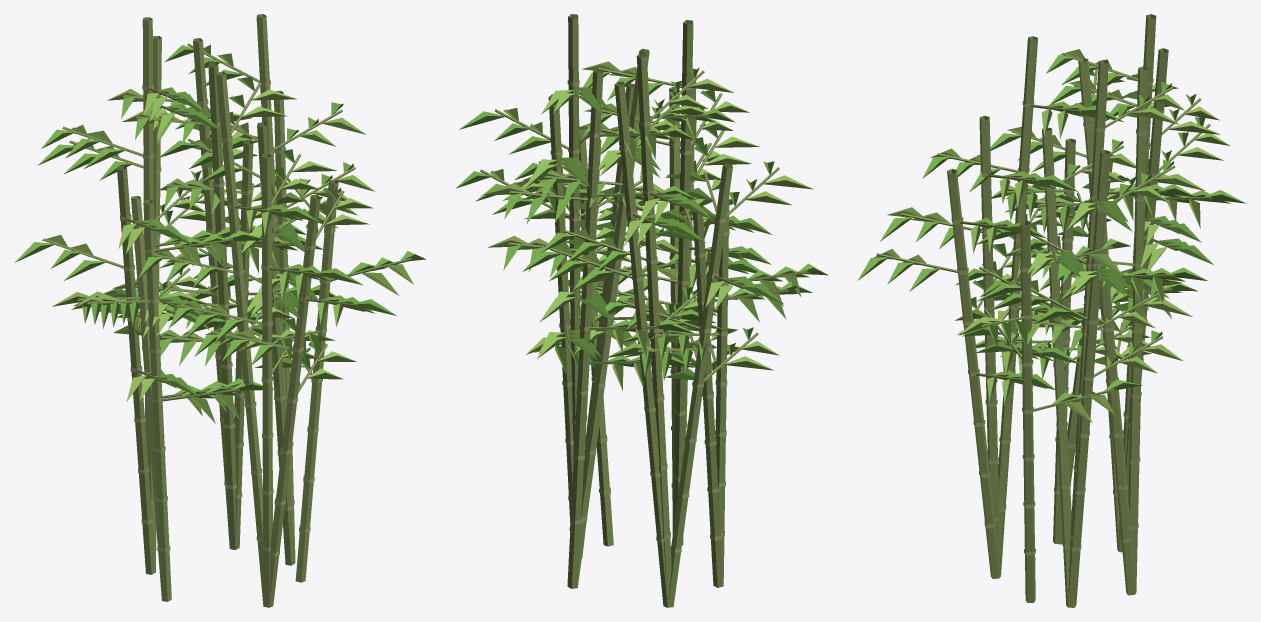
Rendered from KeralaBambooGroves.glb.
The picture shows the model from 3 angles, left to right: view 1: azimuth 30°, elevation 25°; view 2: azimuth 150°, elevation 25°; view 3: azimuth 270°, elevation 25°; orthographic projection. The views are drawn at different scales.
Parts seen in each view (by area): view 1: Bamboo_Cluster_03, Bamboo_Cluster_02, Bamboo_Cluster_01; view 2: Bamboo_Cluster_03, Bamboo_Cluster_01, Bamboo_Cluster_02; view 3: Bamboo_Cluster_02, Bamboo_Cluster_03, Bamboo_Cluster_01.
Part boxes in pixels (box(x1,y1,x2,y2)): Bamboo_Cluster_03: box(15, 14, 425, 606); Bamboo_Cluster_02: box(37, 36, 396, 607); Bamboo_Cluster_01: box(41, 17, 374, 607); Bamboo_Cluster_03: box(459, 14, 813, 607); Bamboo_Cluster_01: box(455, 53, 771, 606); Bamboo_Cluster_02: box(488, 81, 828, 607); Bamboo_Cluster_02: box(857, 48, 1230, 606); Bamboo_Cluster_03: box(922, 36, 1197, 602); Bamboo_Cluster_01: box(880, 14, 1246, 607).
Bounding box in the file's own units: 2.47 × 3.78 × 2.47.
